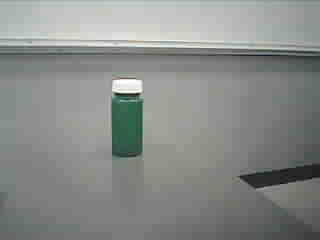Bottle C: (102, 72, 159, 163)
